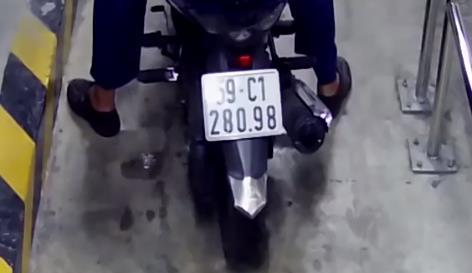lisence: (200, 68, 282, 142)
